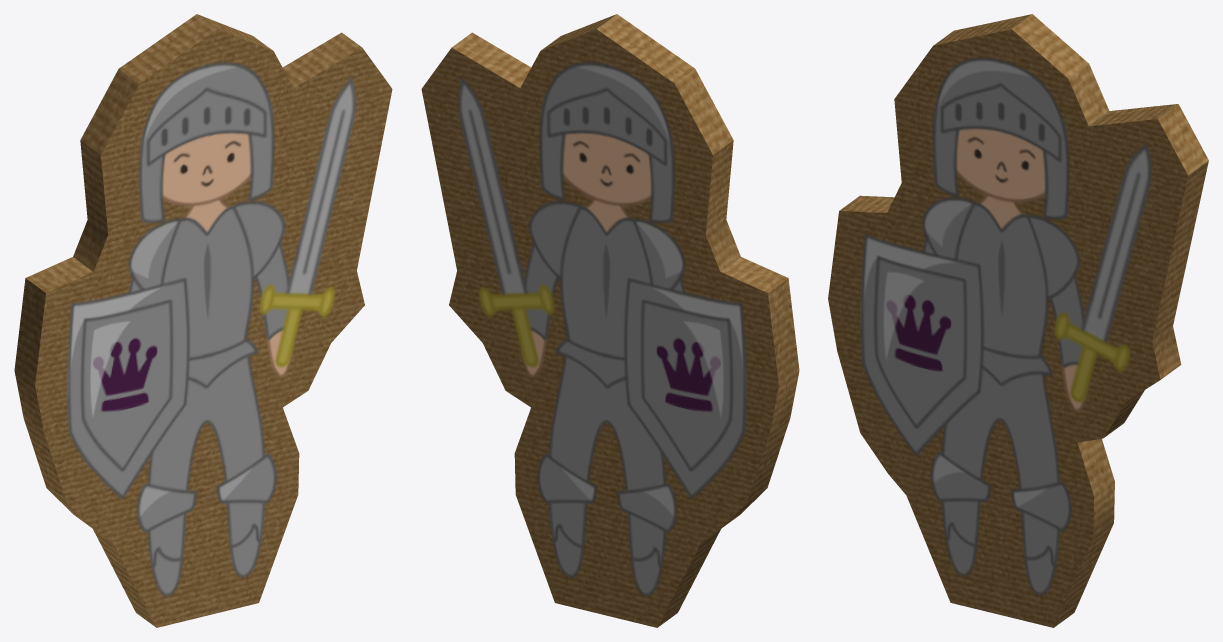
The model's file is Char_Knight.fbx.
3 renders of one model, left to right at view 1: azimuth 30°, elevation 25°; view 2: azimuth 150°, elevation 25°; view 3: azimuth 330°, elevation 25°, orthographic.
Parts seen in each view (by area): view 1: pPlane3; view 2: pPlane3; view 3: pPlane3.
Boxes of the visible parts, x1,y1,x2,y2 form: pPlane3: (14, 14, 392, 627); pPlane3: (421, 14, 799, 627); pPlane3: (828, 14, 1208, 627).
Size of the model in its own units: 0.5565 by 0.869 by 0.0556.
